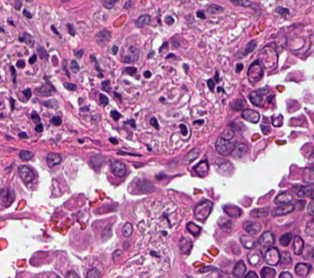nucleus: (258, 44, 277, 69), (194, 199, 212, 220), (247, 60, 263, 83), (215, 137, 234, 155), (236, 40, 256, 57), (110, 159, 126, 176), (18, 165, 34, 182), (232, 142, 248, 158), (258, 231, 274, 247), (240, 234, 257, 249), (241, 109, 259, 123), (123, 46, 138, 62), (183, 149, 199, 164), (215, 161, 232, 175), (243, 221, 261, 234), (194, 160, 208, 176), (1, 189, 14, 206), (36, 83, 54, 95), (223, 205, 241, 217), (137, 179, 153, 192), (179, 237, 192, 253), (135, 14, 150, 27), (95, 30, 110, 43), (46, 153, 61, 166), (249, 91, 262, 105), (186, 222, 200, 235), (90, 155, 104, 167), (250, 208, 268, 217), (220, 129, 234, 140), (207, 4, 222, 14), (122, 222, 132, 237), (23, 33, 34, 46), (19, 150, 33, 160), (232, 99, 244, 110), (271, 114, 282, 126), (37, 45, 47, 58), (43, 99, 57, 108), (70, 60, 79, 72), (99, 93, 108, 105), (31, 111, 40, 123), (102, 0, 115, 8), (63, 82, 76, 90), (10, 66, 16, 83), (110, 110, 120, 120), (51, 25, 60, 36), (124, 119, 135, 128), (220, 220, 231, 229), (232, 1, 251, 6), (63, 61, 69, 76), (22, 88, 31, 98), (51, 116, 61, 125), (150, 117, 158, 128), (179, 124, 187, 135), (117, 151, 139, 155), (67, 23, 74, 35), (125, 67, 136, 74), (207, 79, 214, 90), (23, 9, 31, 18), (196, 10, 205, 18), (159, 42, 167, 51), (74, 49, 83, 57), (28, 54, 36, 63), (102, 80, 109, 90), (257, 87, 267, 94), (165, 16, 173, 24), (16, 60, 24, 68), (236, 63, 243, 72), (35, 123, 42, 132), (14, 1, 21, 9), (109, 137, 117, 144), (18, 132, 27, 138), (193, 119, 203, 124), (124, 1, 131, 8), (114, 92, 120, 100), (112, 45, 117, 54), (144, 70, 150, 77), (214, 72, 218, 82), (156, 174, 164, 179), (147, 51, 153, 57), (10, 98, 13, 109), (80, 106, 88, 110), (166, 54, 172, 58)
